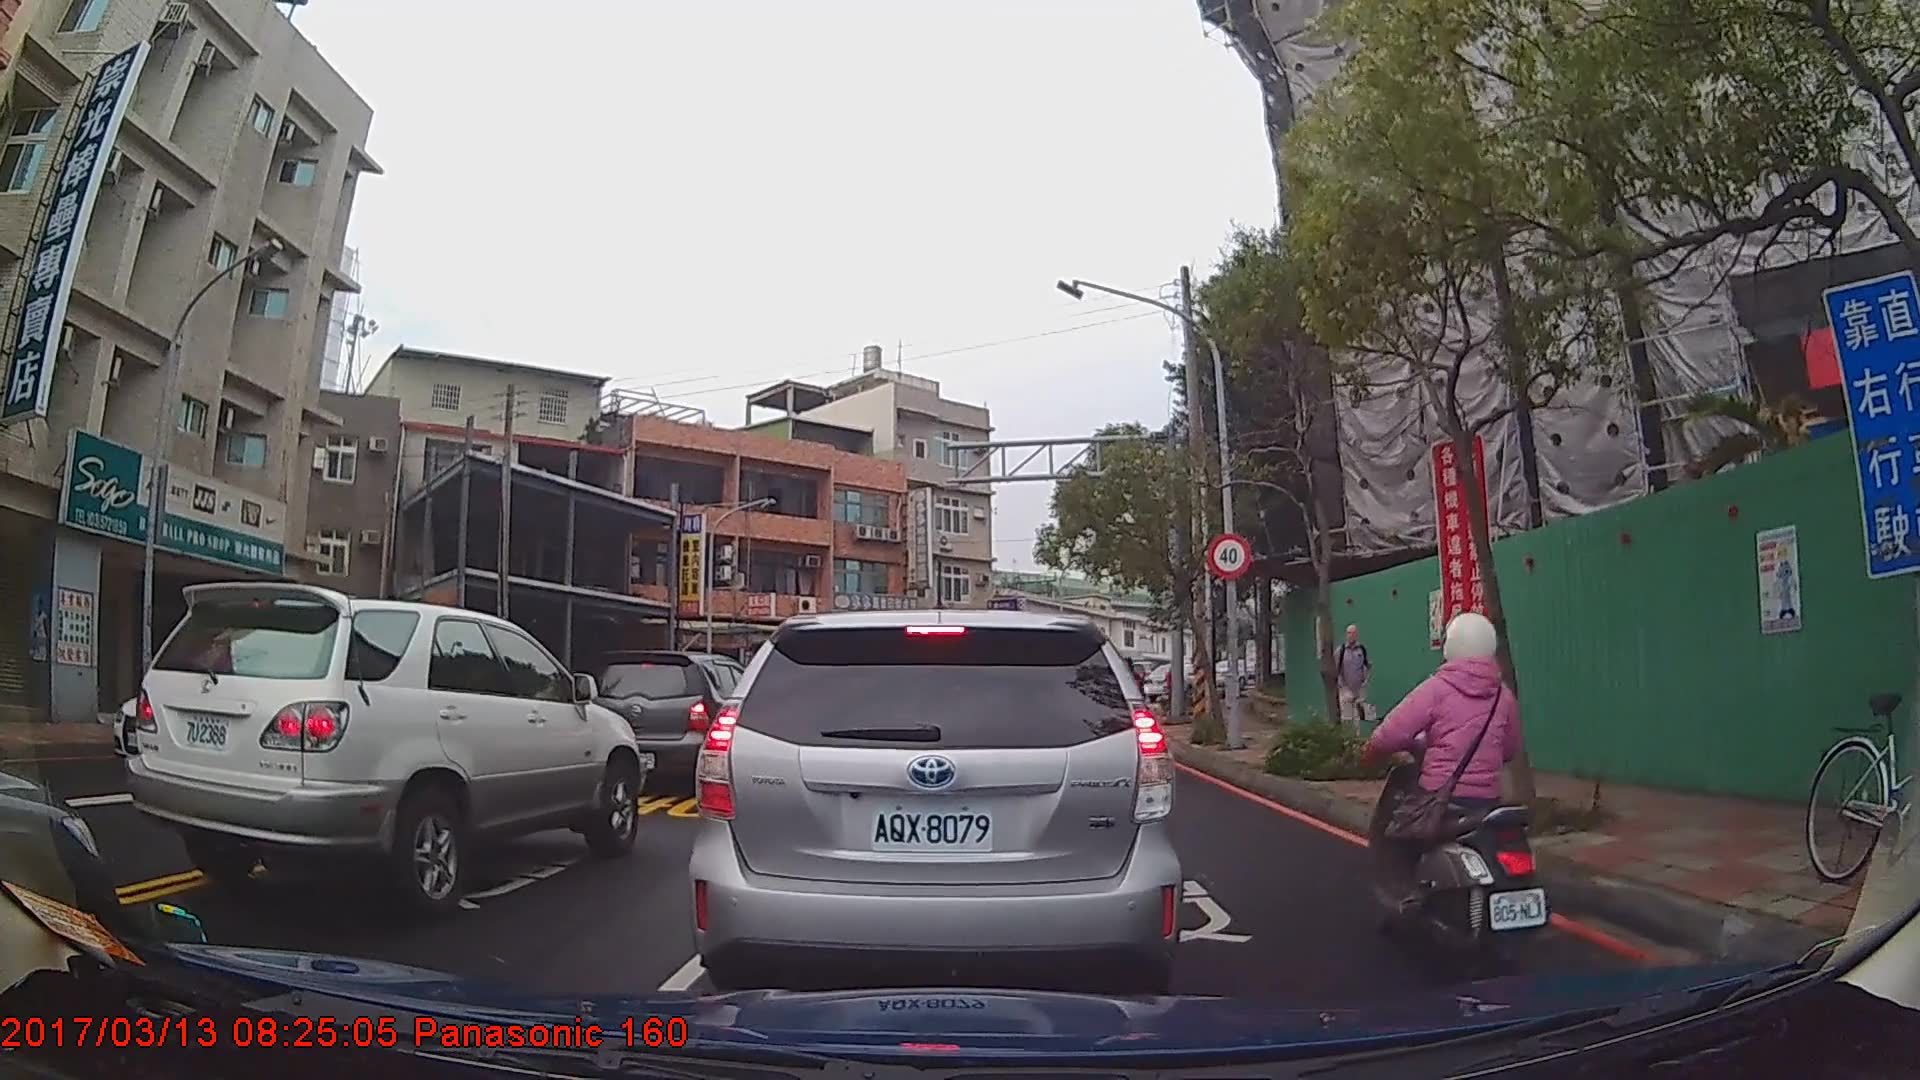pedestrian: (1333, 625, 1376, 752)
rider: (1353, 610, 1552, 977)
vehicle: (684, 608, 1183, 1022), (128, 579, 647, 919), (586, 647, 768, 786)
